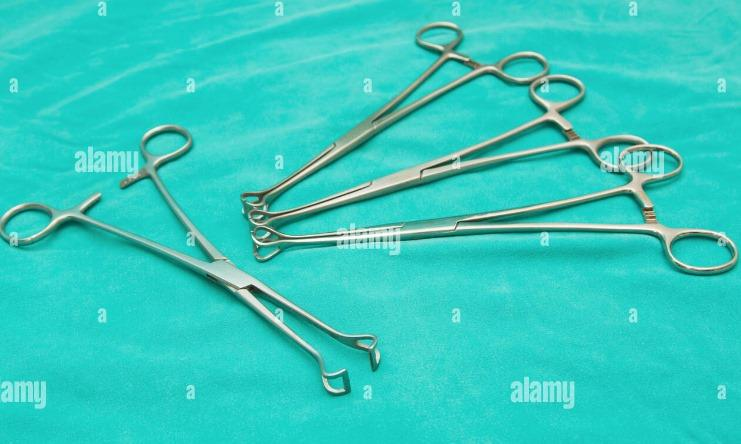Babcock Forceps: (0, 122, 390, 402), (243, 65, 653, 235), (237, 15, 567, 221), (249, 142, 739, 272)
